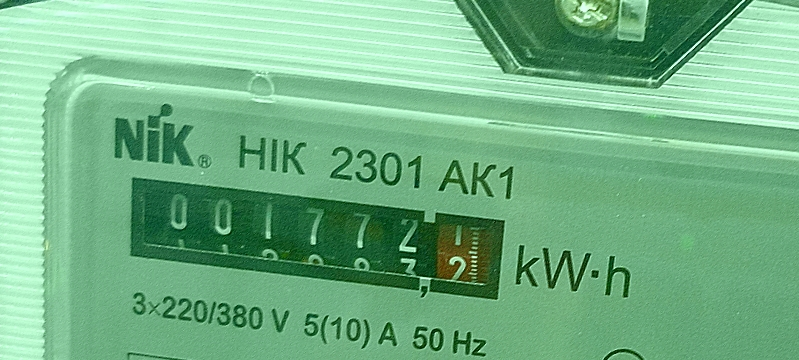0: (161, 186, 194, 230), (208, 192, 236, 234)
1: (257, 198, 278, 238), (449, 220, 465, 247)
2: (394, 214, 422, 253), (441, 250, 468, 281)
3: (395, 252, 420, 276)
7: (299, 202, 327, 246), (345, 208, 372, 249)
screen: (108, 154, 526, 318)
